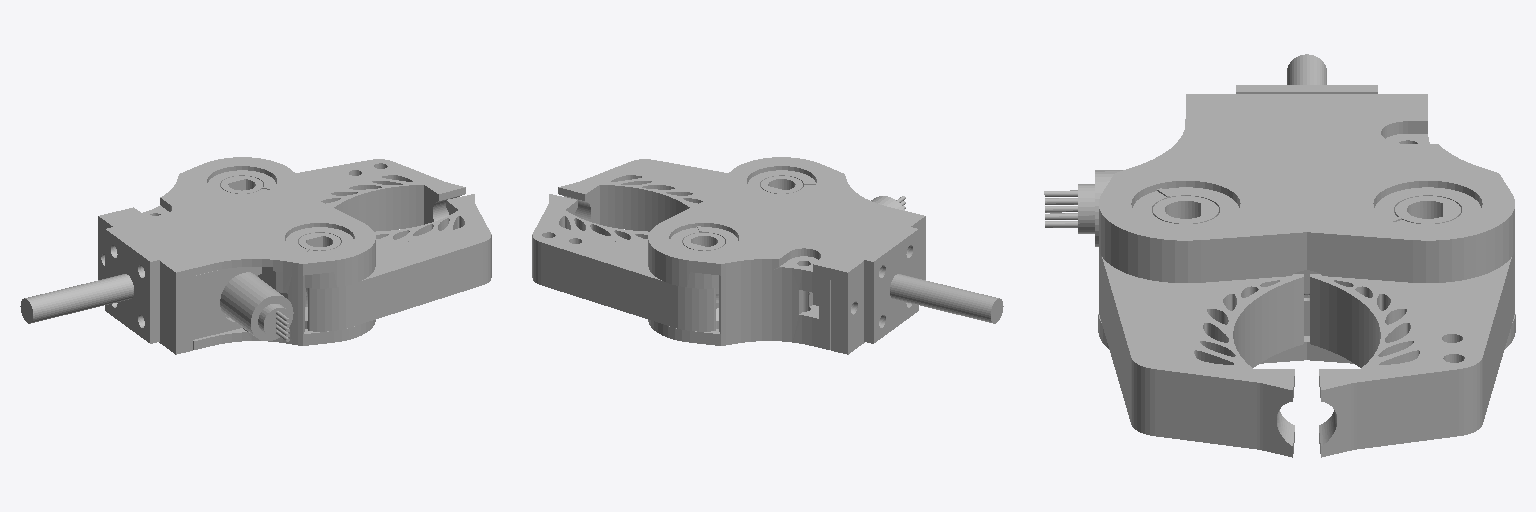
The robot description file, URDF, robot "SPEAR_Arm":
<?xml version="1.0" encoding="utf-8"?>
<!-- This URDF was automatically created by SolidWorks to URDF Exporter! Originally created by [author] ([email redacted]) 
     Commit Version: 1.6.0-4-g7f85cfe  Build Version: 1.6.7995.38578
     For more information, please see http://wiki.ros.org/sw_urdf_exporter -->
<robot
  name="SPEAR_Arm">
  <link
    name="base_link">
    <inertial>
      <origin
        xyz="3.16799867477683E-17 9.21749145776317E-17 -0.00623708097620095"
        rpy="0 0 0" />
      <mass
        value="0.692524123906466" />
      <inertia
        ixx="0.00137416635128141"
        ixy="-3.33415978209264E-19"
        ixz="1.38782870903349E-20"
        iyy="0.00137416635128141"
        iyz="9.49244932547869E-20"
        izz="0.0025458973618602" />
    </inertial>
    <visual>
      <origin
        xyz="0 0 0"
        rpy="0 0 0" />
      <geometry>
        <mesh
          filename="package://description/meshes/base_link.STL" />
      </geometry>
      <material
        name="">
        <color
          rgba="0.752941176470588 0.752941176470588 0.752941176470588 1" />
      </material>
    </visual>
    <collision>
      <origin
        xyz="0 0 -0.015"
        rpy="0 0 0" />
      <geometry>
        <box size = "0.128 0.128 0.07"/>
      </geometry>
    </collision>
  </link>
  <link
    name="base_joint">
    <inertial>
      <origin
        xyz="0.0396864881982836 -0.000199483171229487 0.000203916910570974"
        rpy="0 0 0" />
      <mass
        value="1.47738507112296" />
      <inertia
        ixx="0.00173644836892209"
        ixy="5.04000250358313E-06"
        ixz="-5.50880537488887E-06"
        iyy="0.00156626480987519"
        iyz="-0.000250260146305554"
        izz="0.00161124015763902" />
    </inertial>
    <visual>
      <origin
        xyz="0 0 0"
        rpy="0 0 0" />
      <geometry>
        <mesh
          filename="package://description/meshes/base_joint.STL" />
      </geometry>
      <material
        name="">
        <color
          rgba="0.752941176470588 0.752941176470588 0.752941176470588 1" />
      </material>
    </visual>
    <collision>
      <origin
        xyz="0 0 0.12"
        rpy="0 0 0" />
      <geometry>
        <box size= "0.121 0.11 0.11"/>
      </geometry>
    </collision>
  </link>
  <joint
    name="Shoulder Roll"
    type="continuous">
    <origin
      xyz="0 0 0"
      rpy="0 0 0" />
    <parent
      link="base_link" />
    <child
      link="base_joint" />
    <axis
      xyz="0 0 1" />
  </joint>
  <link
    name="link_1">
    <inertial>
      <origin
        xyz="0.0201107904068754 -0.000699793106638869 -0.0571172260543161"
        rpy="0 0 0" />
      <mass
        value="3.44363478464573" />
      <inertia
        ixx="0.00845059338877604"
        ixy="1.52776594858077E-07"
        ixz="-6.15113949547405E-06"
        iyy="0.00638861497306379"
        iyz="5.20507537067759E-08"
        izz="0.00306734532619655" />
    </inertial>
    <visual>
      <origin
        xyz="0 0 0"
        rpy="0 0 0" />
      <geometry>
        <mesh
          filename="package://description/meshes/link_1.STL" />
      </geometry>
      <material
        name="">
        <color
          rgba="0.752941176470588 0.752941176470588 0.752941176470588 1" />
      </material>
    </visual>
    <collision>
      <origin
        xyz="-0.16 -0.045 0"
        rpy="0 0 0" />
      <geometry>
        <box size= "0.14 0.08 0.055"/>
      </geometry>
    </collision>
  </link>
  <joint
    name="Shoulder Pitch"
    type="revolute">
    <origin
      xyz="0 0 0.112"
      rpy="0 0 0" />
    <parent
      link="base_joint" />
    <child
      link="link_1" />
    <axis
      xyz="0 1 0" />
    <limit
      lower="-1.0472"
      upper="3.6652"
      effort="0"
      velocity="0" />
  </joint>
  <link
    name="link_2">
    <inertial>
      <origin
        xyz="0.00377731865823253 -1.08701091180302E-05 0.000137137871969006"
        rpy="0 0 0" />
      <mass
        value="1.5153745049325" />
      <inertia
        ixx="0.00151052573041459"
        ixy="4.318673973076E-10"
        ixz="-3.94520702946067E-06"
        iyy="0.000960514355142274"
        iyz="-1.18312010616379E-10"
        izz="0.00129766839873913" />
    </inertial>
    <visual>
      <origin
        xyz="0 0 0"
        rpy="0 0 0" />
      <geometry>
        <mesh
          filename="package://description/meshes/link_2.STL" />
      </geometry>
      <material
        name="">
        <color
          rgba="0.752941176470588 0.752941176470588 0.752941176470588 1" />
      </material>
    </visual>
    <collision>
      <origin
        xyz="0 0 0"
        rpy="0 0 0" />
      <geometry>
        <box size= "0.1 0.1 0.08"/>
      </geometry>
    </collision>
  </link>
  <joint
    name="Elbow Pitch"
    type="revolute">
    <origin
      xyz="-0.34315 -0.0428412022704851 0.000700000000055892"
      rpy="0 0 0" />
    <parent
      link="link_1" />
    <child
      link="link_2" />
    <axis
      xyz="0 1 0" />
    <limit
      lower="-2.7925"
      upper="1.9722"
      effort="0"
      velocity="0" />
  </joint>
  <link
    name="link_3">
    <inertial>
      <origin
        xyz="0.0654796463911018 -0.000151184620193826 -0.000160482278215801"
        rpy="0 0 0" />
      <mass
        value="2.07375542707273" />
      <inertia
        ixx="0.00161468452783234"
        ixy="1.97123090743411E-06"
        ixz="-1.57472017298584E-10"
        iyy="0.00248003537406924"
        iyz="-2.04818278580273E-07"
        izz="0.00230876885278511" />
    </inertial>
    <visual>
      <origin
        xyz="0 0 0"
        rpy="0 0 0" />
      <geometry>
        <mesh
          filename="package://description/meshes/link_3.STL" />
      </geometry>
      <material
        name="">
        <color
          rgba="0.752941176470588 0.752941176470588 0.752941176470588 1" />
      </material>
    </visual>
    <collision>
      <origin
        xyz="-0.17 0 0"
        rpy="0 0 0" />
      <geometry>
        <box size= "0.21 0.08 0.084"/>
      </geometry>
    </collision>
  </link>
  <joint
    name="Elbow Roll"
    type="revolute">
    <origin
      xyz="0 0.09 0"
      rpy="0 0 0" />
    <parent
      link="link_2" />
    <child
      link="link_3" />
    <axis
      xyz="1 0 0" />
    <limit
      lower="-3.1416"
      upper="3.1416"
      effort="0"
      velocity="0" />
  </joint>
  <link
    name="link_4">
    <inertial>
      <origin
        xyz="0.0665147333833135 6.57060609399601E-05 -0.00829151281291829"
        rpy="0 0 0" />
      <mass
        value="1.56472201375409" />
      <inertia
        ixx="0.00274365868526142"
        ixy="4.97483377943942E-08"
        ixz="-1.08082401323012E-06"
        iyy="0.00236577011230846"
        iyz="-2.86764704557576E-09"
        izz="0.00122113820715794" />
    </inertial>
    <visual>
      <origin
        xyz="0 0 0"
        rpy="0 0 0" />
      <geometry>
        <mesh
          filename="package://description/meshes/link_4.STL" />
      </geometry>
      <material
        name="">
        <color
          rgba="0.752941176470588 0.752941176470588 0.752941176470588 1" />
      </material>
    </visual>
    <collision>
      <origin
        xyz="0 0.085 0"
        rpy="0 0 0" />
      <geometry>
        <box size= "0.16 0.082 0.08"/>
      </geometry>
    </collision>
  </link>
  <joint
    name="Wrist Pitch"
    type="revolute">
    <origin
      xyz="-0.25884999894715 -0.00284120227048547 -0.000299999999948689"
      rpy="0 0 0" />
    <parent
      link="link_3" />
    <child
      link="link_4" />
    <axis
      xyz="0 1 0" />
    <limit
      lower="-2.7576"
      upper="2.6704"
      effort="0"
      velocity="0" />
  </joint>
  <link
    name="link_5">
    <inertial>
      <origin
        xyz="0.70125955361708 -0.00360770807542265 0.00601989780117211"
        rpy="0 0 0" />
      <mass
        value="0.750967399035288" />
      <inertia
        ixx="0.000580115693570658"
        ixy="2.85026358587835E-05"
        ixz="3.44034905741974E-05"
        iyy="0.00106973660677863"
        iyz="1.48522113054278E-05"
        izz="0.000644136496032607" />
    </inertial>
    <visual>
      <origin
        xyz="0.28 0 0"
        rpy="0 0 0" />
      <geometry>
        <mesh
          filename="package://description/meshes/link_5.STL" />
      </geometry>
      <material
        name="">
        <color
          rgba="0.752941176470588 0.752941176470588 0.752941176470588 1" />
      </material>
    </visual>
    <collision>
      <origin
        xyz="0.08 0 0"
        rpy="0 0 0" />
      <geometry>
        <box size= "0.16 0.08 0.14"/>
      </geometry>
    </collision>
  </link>
  <joint
    name="Wrist Roll"
    type="continuous">
    <origin
      xyz="-0.25 0.09 0.00300000000000089"
      rpy="0 0 0" />
    <parent
      link="link_4" />
    <child
      link="link_5" />
    <axis
      xyz="1 0 0" />
    <limit
      lower="0"
      upper="0"
      effort="0"
      velocity="0" />
  </joint>
  <link
    name="EEF">
    <visual>
      <origin
        xyz="0 0 0"
        rpy="0 0 0" />
      <geometry>
          <box size= "0.02 0.02 0.02"/>
      </geometry>
      <material
        name="">
        <color
          rgba="0.752941176470588 0.752941176470588 0.752941176470588 1" />
      </material>
    </visual>
    <collision>
      <origin
        xyz="0 0 0"
        rpy="0 0 0" />
      <geometry>
        <box size= "0.02 0.02 0.02"/>
      </geometry>
    </collision>
  </link>
  <joint
    name="EEF_Joint"
    type="fixed">
    <origin
      xyz="-0.01 0 0"
      rpy="0 0 0" />
    <parent
      link="link_5" />
    <child
      link="EEF"/>
  </joint>

</robot>

--- Render facts (derived) ---
The picture shows the robot from 3 angles, left to right: view 1: azimuth 30°, elevation 25°; view 2: azimuth 150°, elevation 25°; view 3: azimuth 270°, elevation 25°; orthographic projection.
Robot: SPEAR_Arm — 8 links, 7 joints (4 revolute, 2 continuous, 1 fixed); root link base_link; default pose: every joint at zero.
Links seen in each view (by area): view 1: link_5; view 2: link_5; view 3: link_5.
Link boxes in pixels (x1,y1,x2,y2): link_5: (20, 157, 491, 354); link_5: (532, 157, 1003, 354); link_5: (1044, 54, 1515, 457).
Bounding box of the posed robot: 238 × 140 × 42.6 m (x, y, z).
Meshes: 7 distinct files referenced, 1 mesh visuals loaded (1 binary STL); not drawn: 6 (reference not matched to a file when rendering).